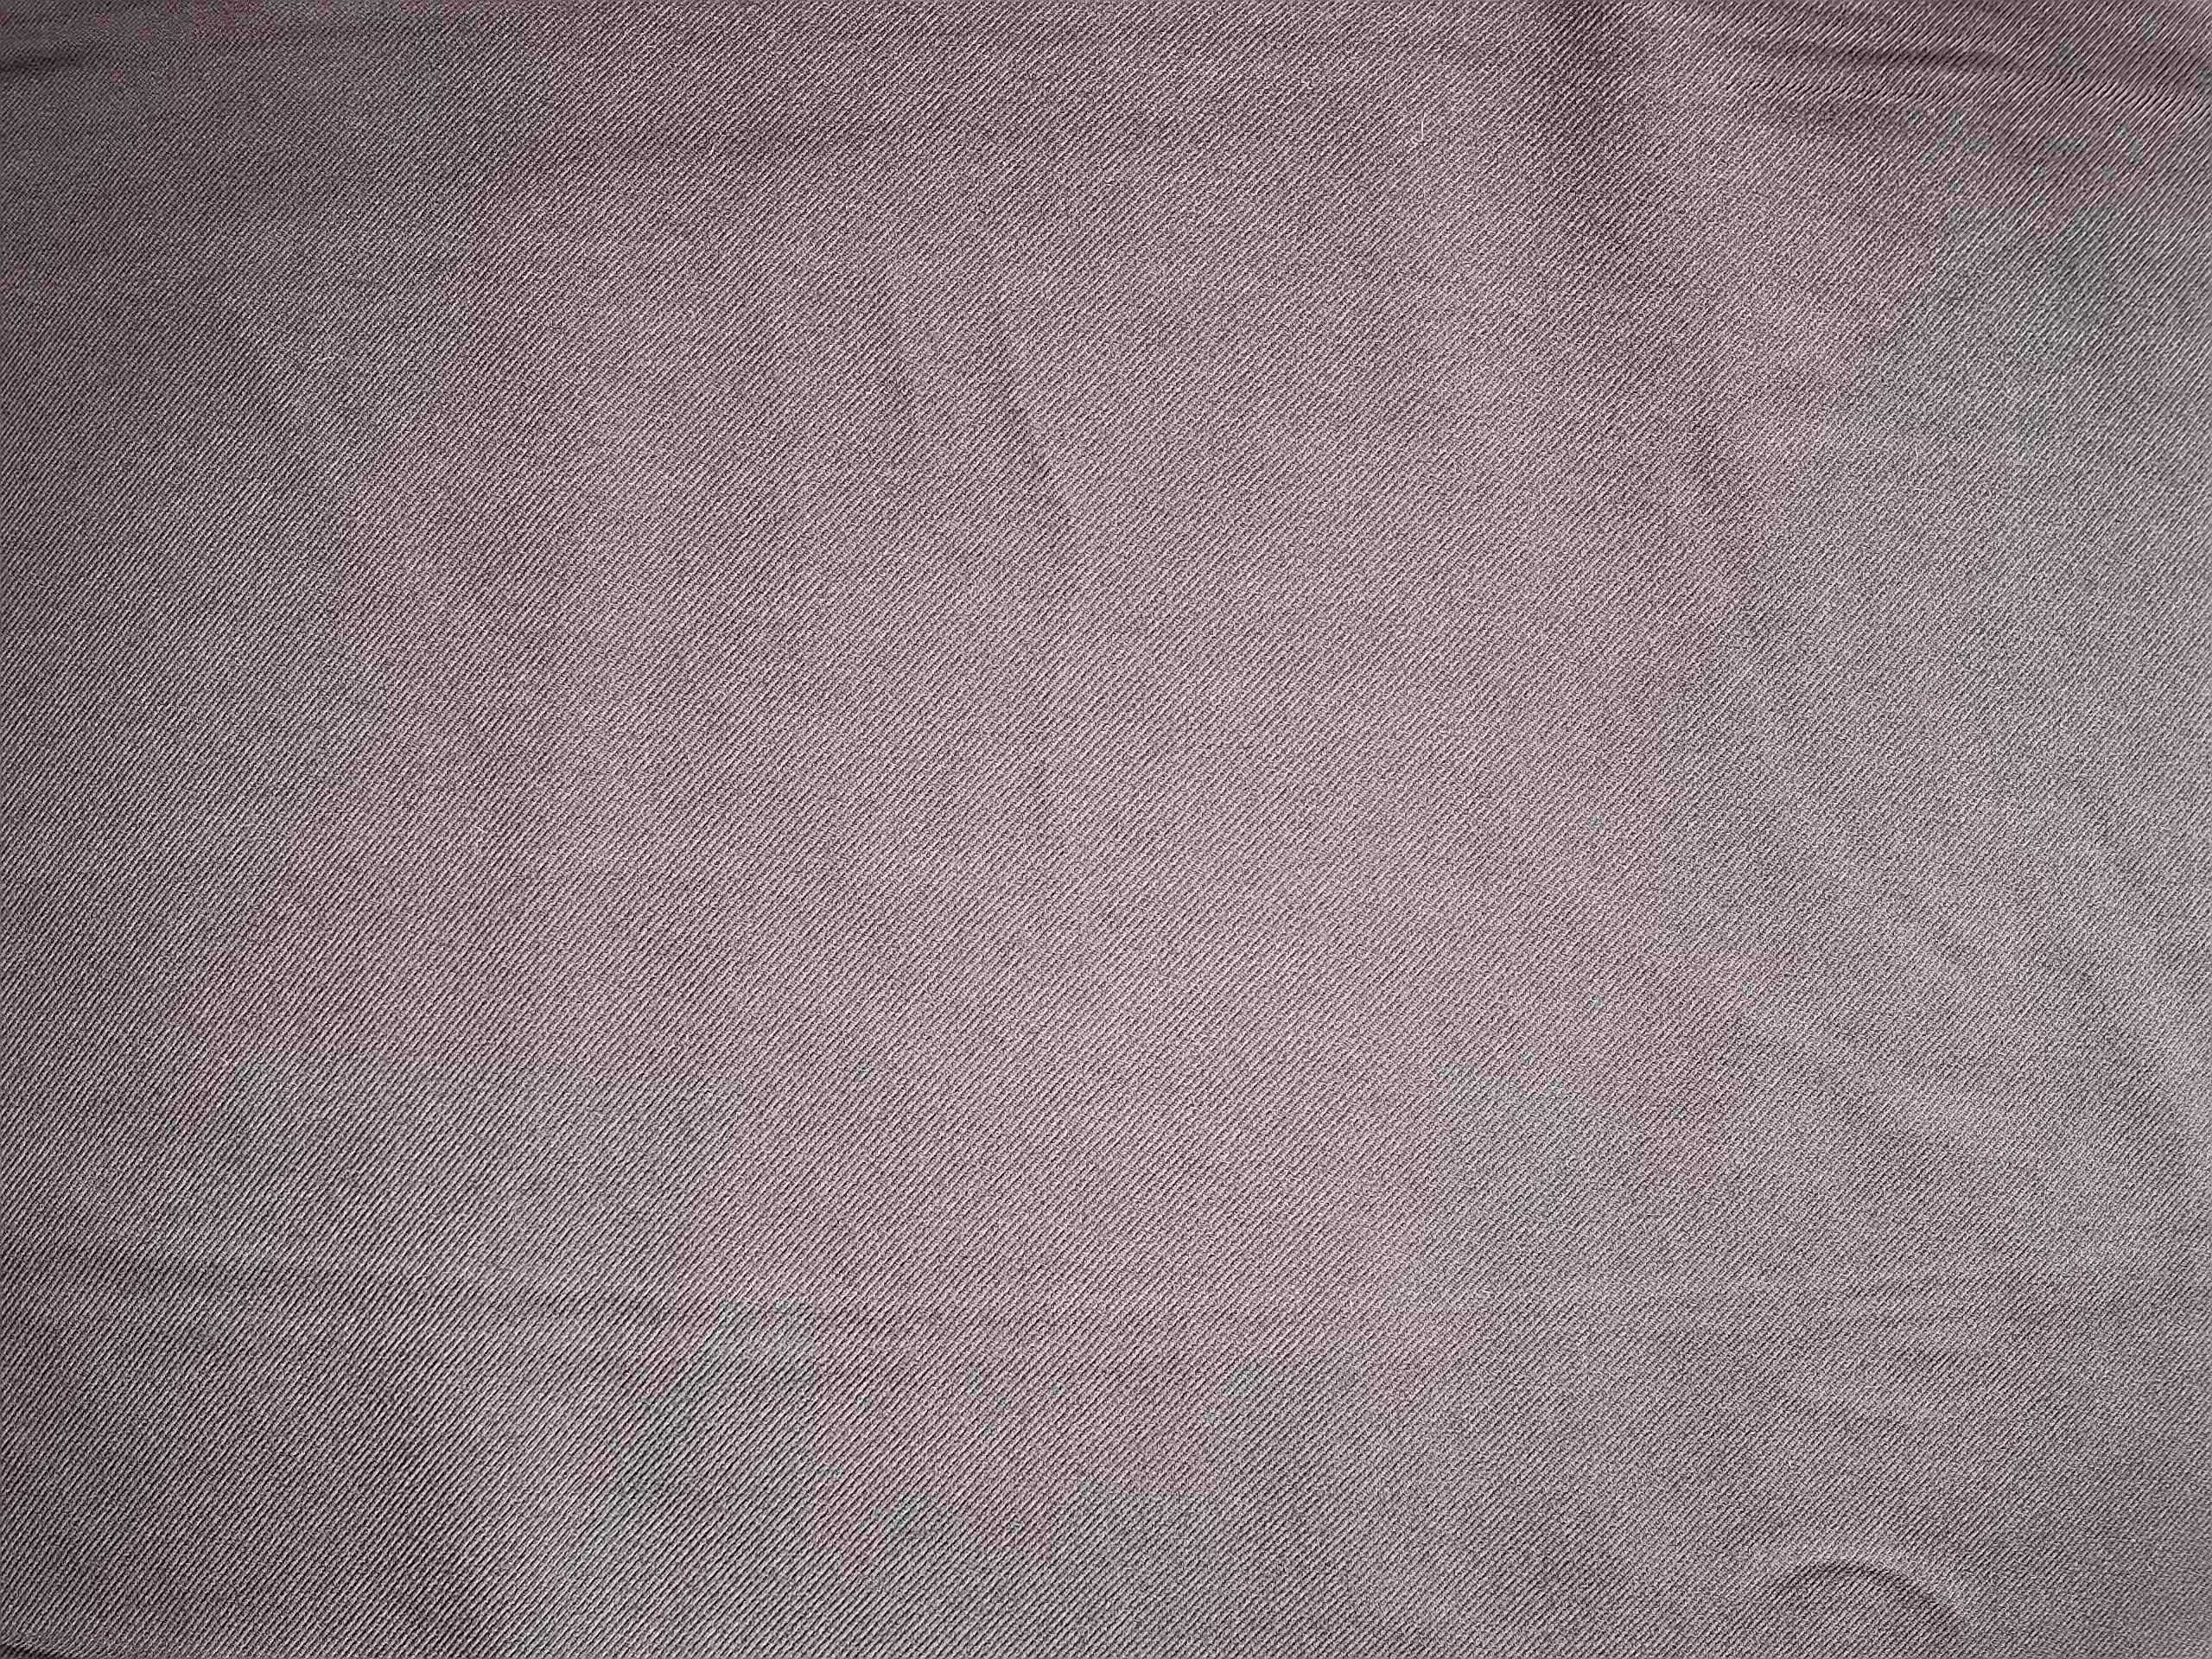others: (970, 268, 1097, 880)
